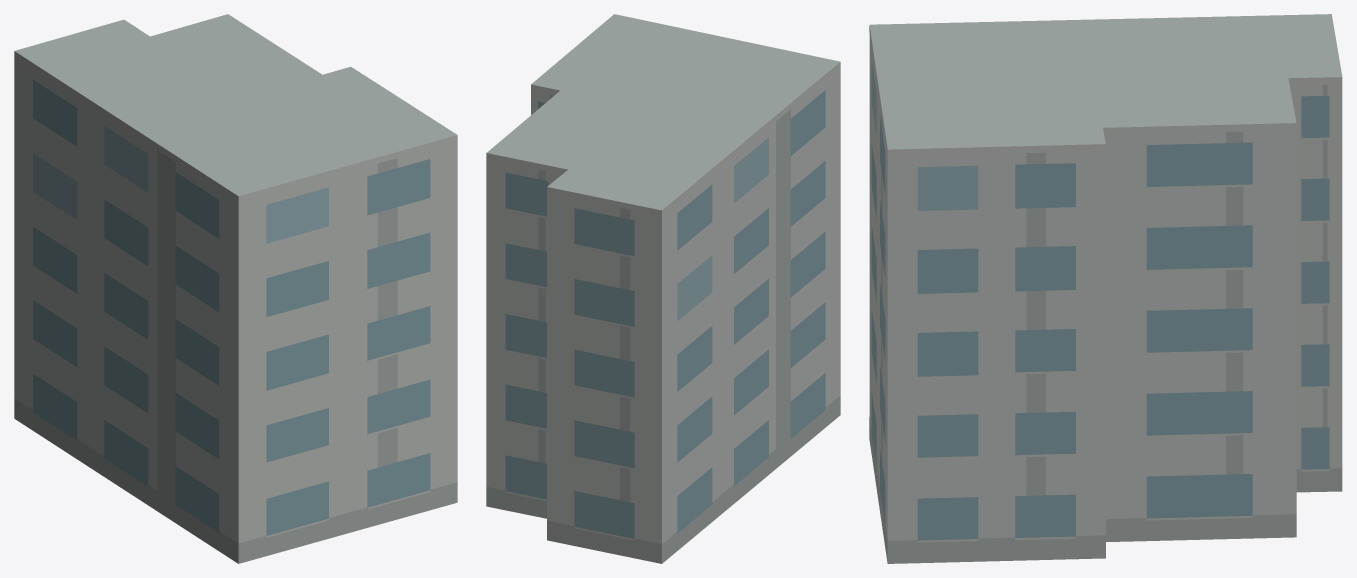
The model's file is survey-upis-32701702.glb.
3 views of the same model, side by side, from view 1: azimuth 30°, elevation 25°; view 2: azimuth 150°, elevation 25°; view 3: azimuth 270°, elevation 25° (orthographic). The views are drawn at different scales.
Parts seen in each view (by area): view 1: survey-upis-32701702.tmp; view 2: survey-upis-32701702.tmp; view 3: survey-upis-32701702.tmp.
Boxes of the visible parts, <box> form: survey-upis-32701702.tmp: <box>14,14,457,563</box>; survey-upis-32701702.tmp: <box>486,14,840,563</box>; survey-upis-32701702.tmp: <box>869,14,1342,563</box>.
Size of the model in its own units: 9.97 by 14.2 by 14.7.
